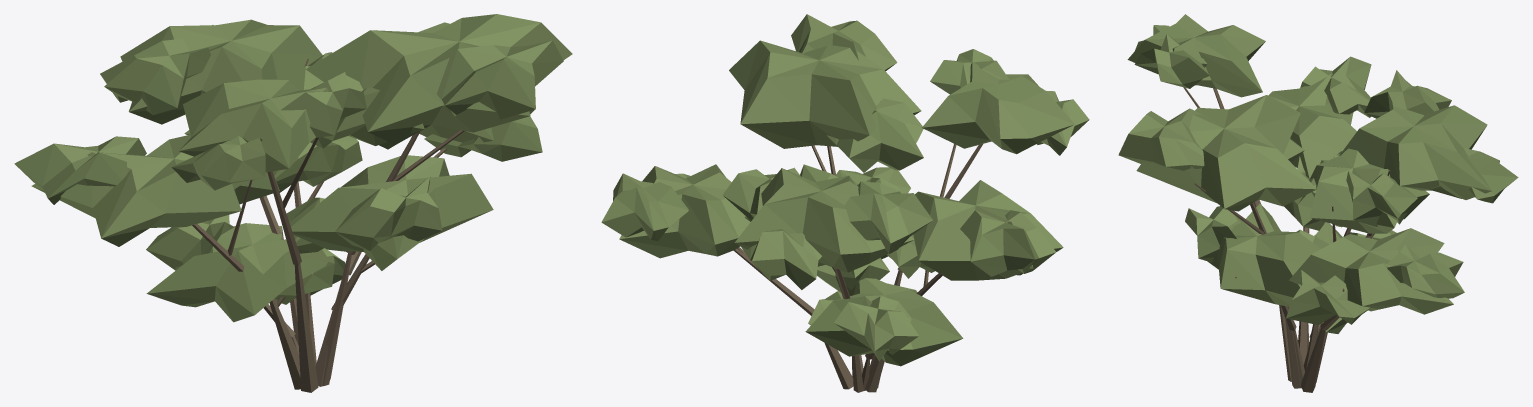
The model's file is sand-plum-open-high.glb.
3 renders of one model, left to right at view 1: azimuth 30°, elevation 25°; view 2: azimuth 150°, elevation 25°; view 3: azimuth 270°, elevation 25°, orthographic. The views are drawn at different scales.
Visible parts, largest first — view 1: sand-plum-open-high / foliage, sand-plum-open-high / stems; view 2: sand-plum-open-high / foliage, sand-plum-open-high / stems; view 3: sand-plum-open-high / foliage, sand-plum-open-high / stems.
Boxes of the visible parts, x1,y1,x2,y2 form: sand-plum-open-high / foliage: [14, 14, 572, 322]; sand-plum-open-high / stems: [192, 58, 464, 392]; sand-plum-open-high / foliage: [601, 14, 1089, 366]; sand-plum-open-high / stems: [733, 144, 982, 392]; sand-plum-open-high / foliage: [1118, 14, 1518, 333]; sand-plum-open-high / stems: [1183, 87, 1389, 392].
Size of the model in its own units: 2.11 by 1.49 by 1.71.
